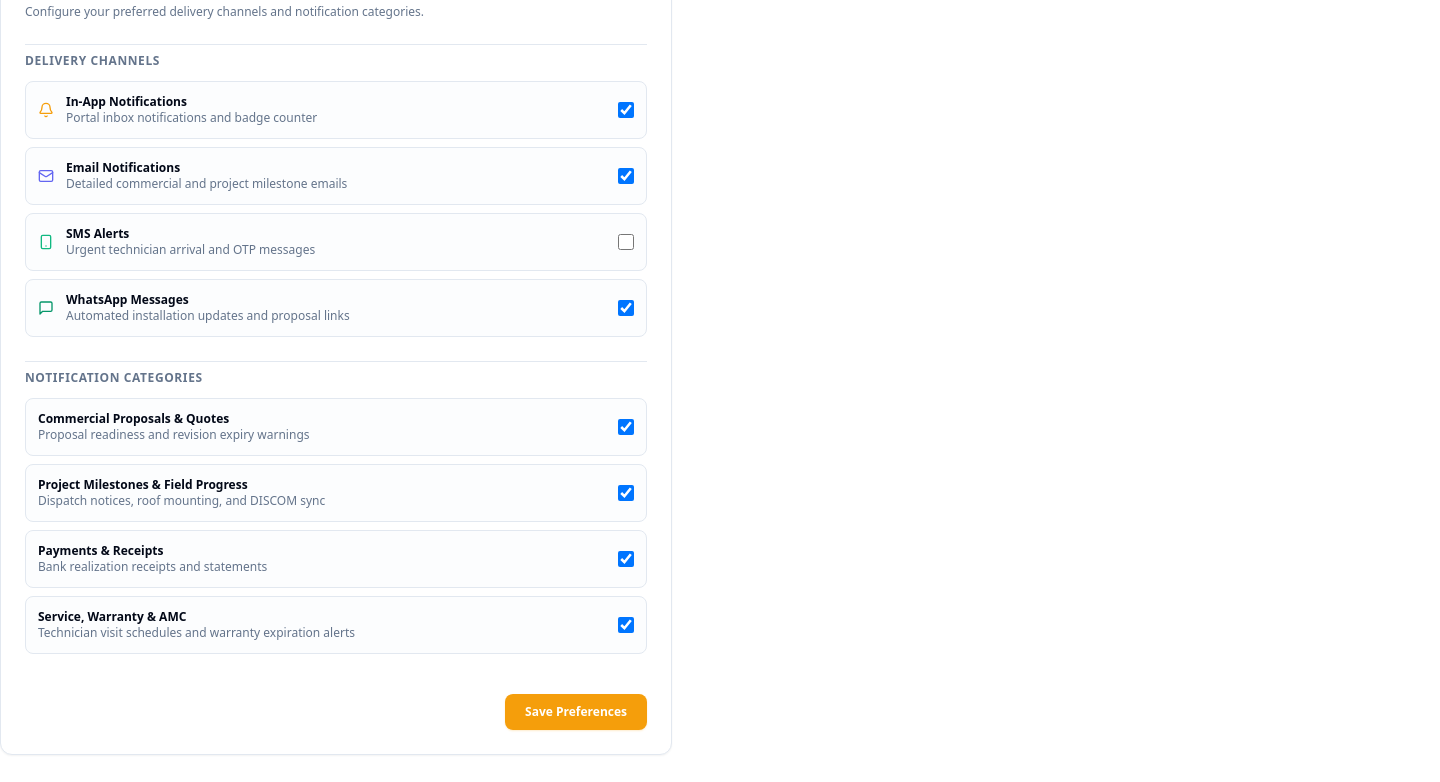
Scenario: Phase 9A Frontend: Customer Portal & Centralized Notification Center › navigates to Preferences tab and toggles delivery channels
(page scrolled)
Expected: the heading "Delivery Channels" is shown, [25, 52, 160, 69]
Expected: the text "In-App Notifications" is shown, [66, 93, 187, 110]
Click the button "Save Preferences". click: [576, 712]
box: [505, 694, 647, 730]
(page scrolled)
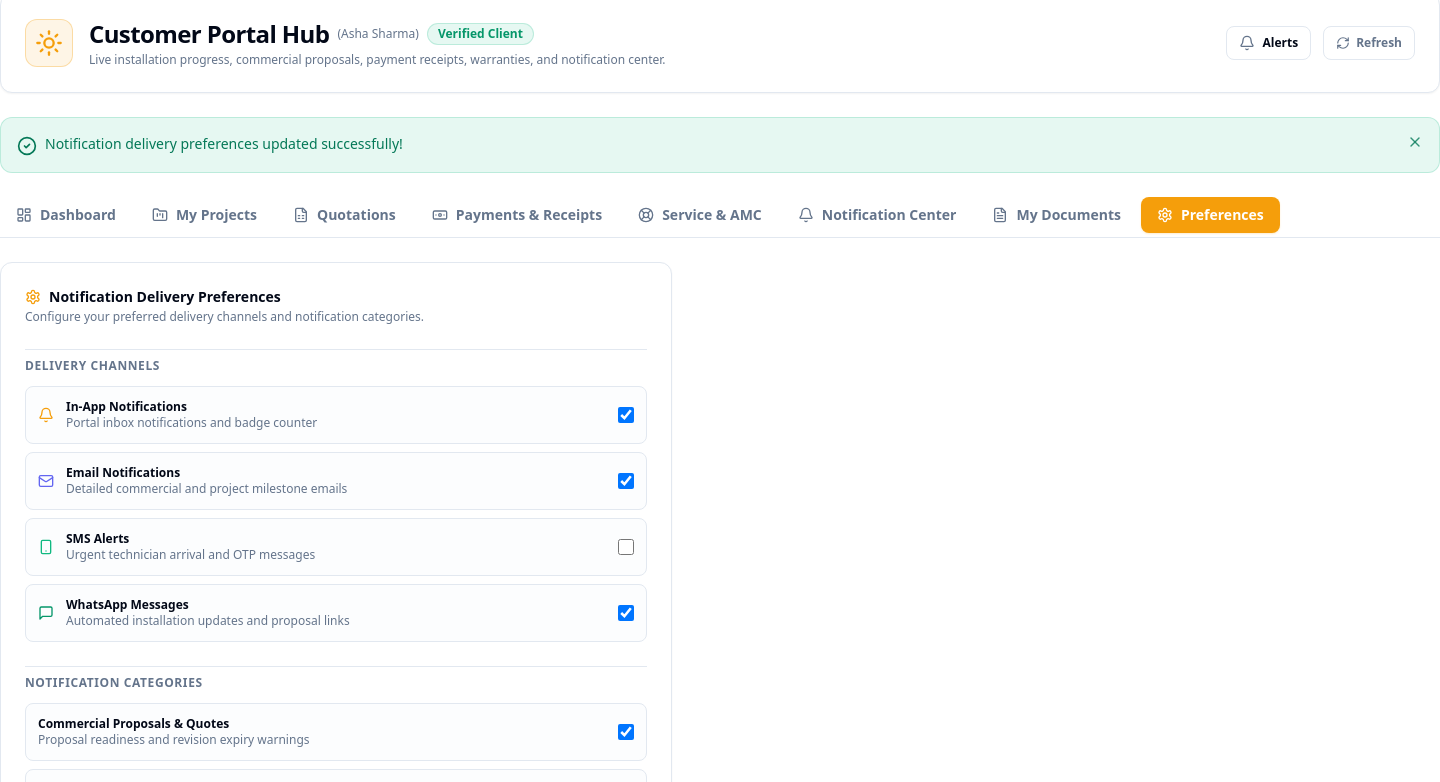
Expected: the text "Notification delivery preferences updated successfully!" is shown, [45, 134, 403, 154]
